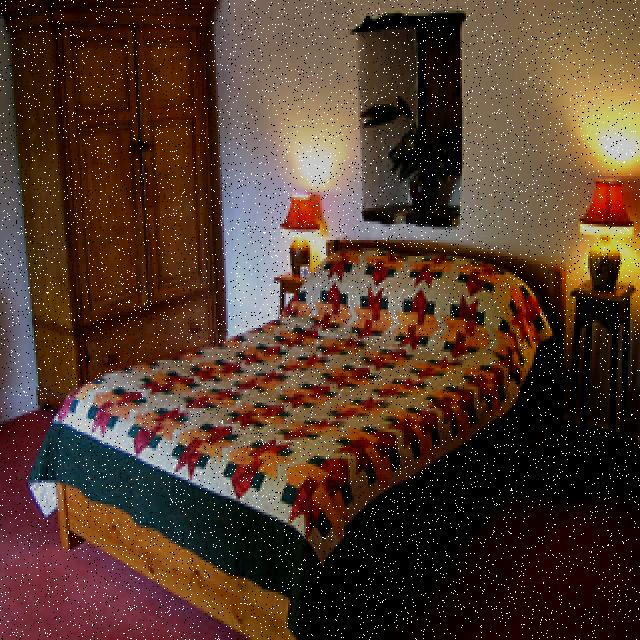bed: (40, 250, 570, 626)
